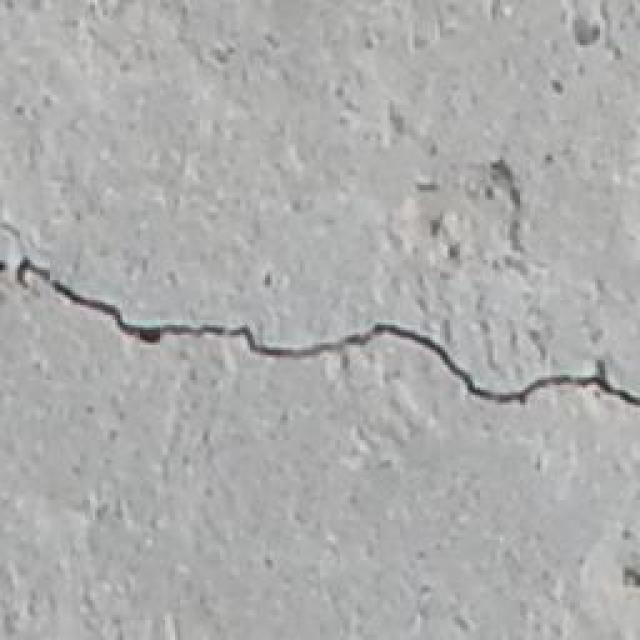concrete-crack: (6, 252, 640, 414)
